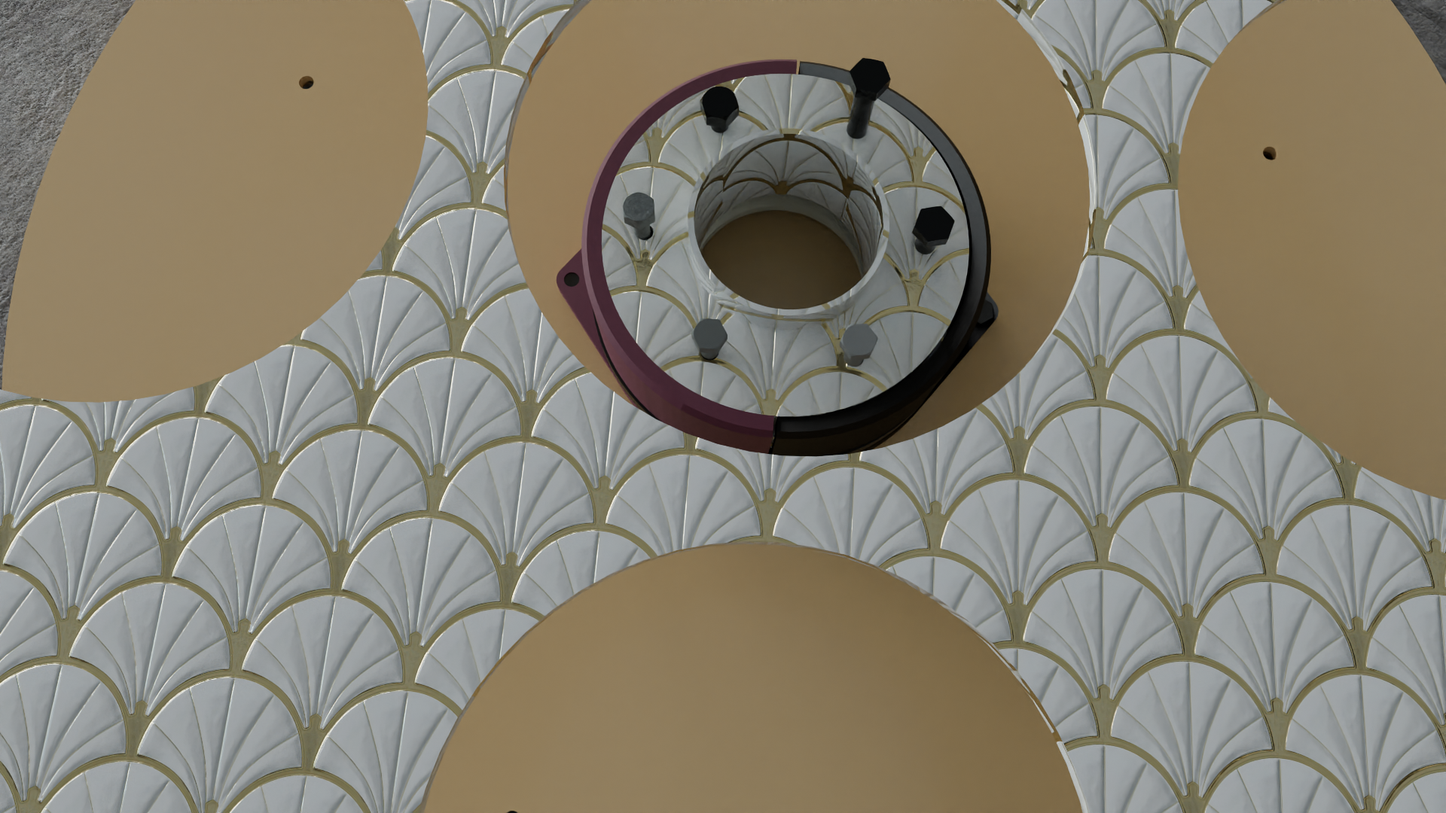bolt: (914, 206, 955, 242), (850, 58, 891, 93), (700, 87, 739, 121), (840, 324, 878, 356), (691, 318, 728, 350), (623, 192, 654, 224)
